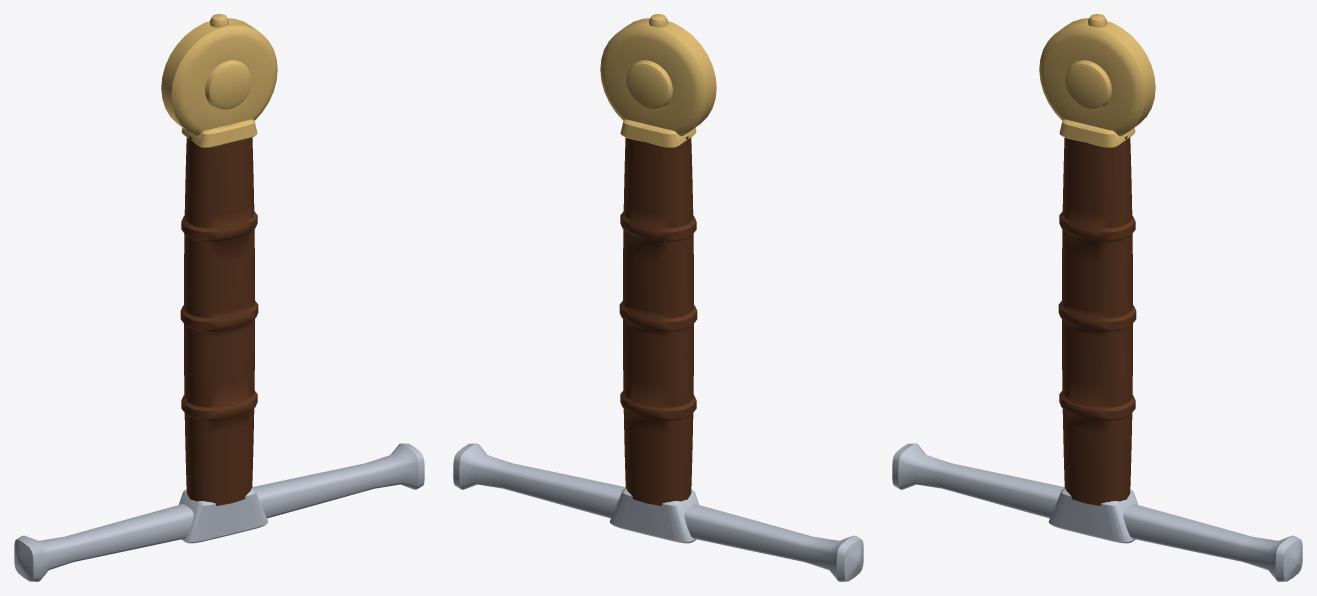
Rendered from LongswordHiltGame.fbx.
The picture shows the model from 3 angles, left to right: view 1: azimuth 30°, elevation 25°; view 2: azimuth 150°, elevation 25°; view 3: azimuth 330°, elevation 25°; orthographic projection.
Parts seen in each view (by area): view 1: Grip, Guard, Pommel; view 2: Grip, Guard, Pommel; view 3: Grip, Guard, Pommel.
Boxes of the visible parts, box(x1,y1,x2,y2) form: Grip: box(180, 136, 258, 505); Guard: box(14, 443, 424, 581); Pommel: box(161, 14, 277, 147); Grip: box(619, 136, 697, 505); Guard: box(453, 443, 863, 581); Pommel: box(600, 14, 716, 147); Grip: box(1058, 136, 1136, 505); Guard: box(892, 443, 1302, 581); Pommel: box(1039, 14, 1155, 147).
Bounding box in the file's own units: 1.36 × 1.67 × 0.1744.
